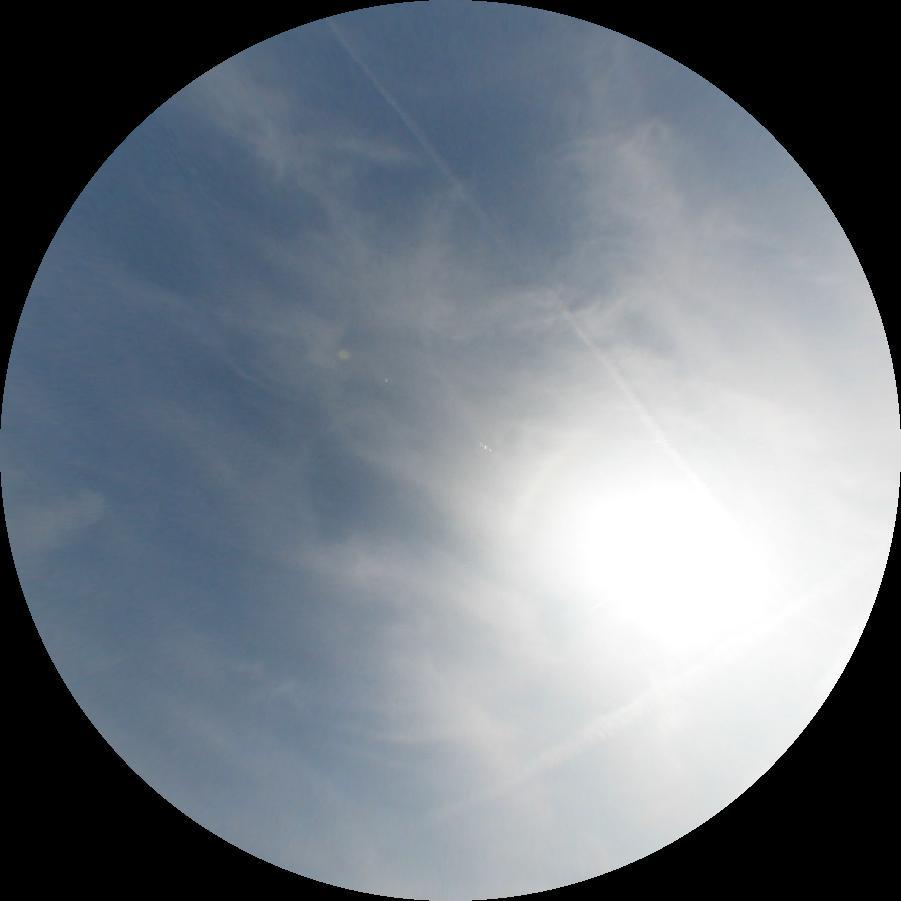contrail old: (320, 14, 726, 509)
contrail veryold: (409, 657, 713, 848)
sun: (562, 446, 819, 667)
